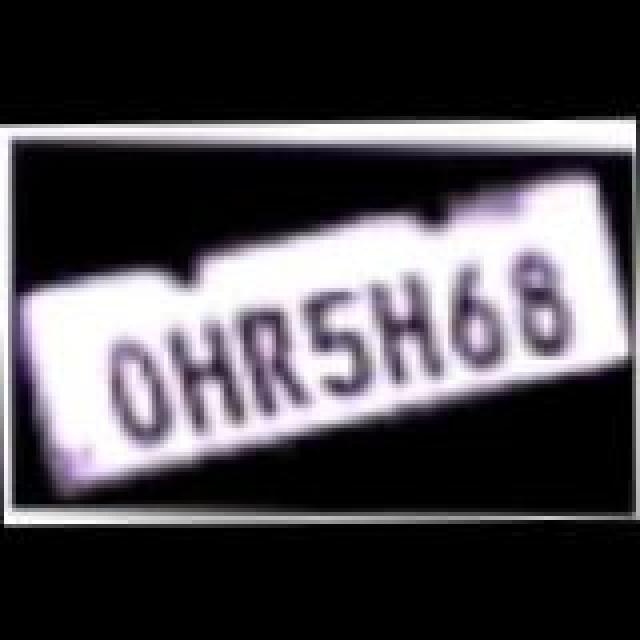5: (290, 284, 390, 400)
6: (426, 258, 526, 374)
8: (492, 242, 588, 358)
H: (354, 268, 462, 388), (156, 316, 260, 436)
O: (96, 336, 188, 448)
R: (222, 302, 322, 422)
